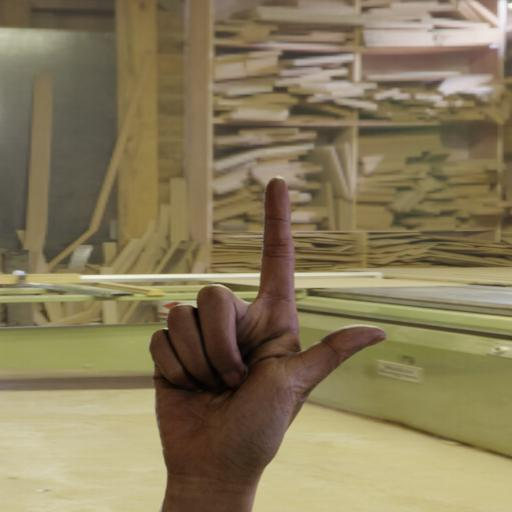L: (145, 175, 394, 486)
